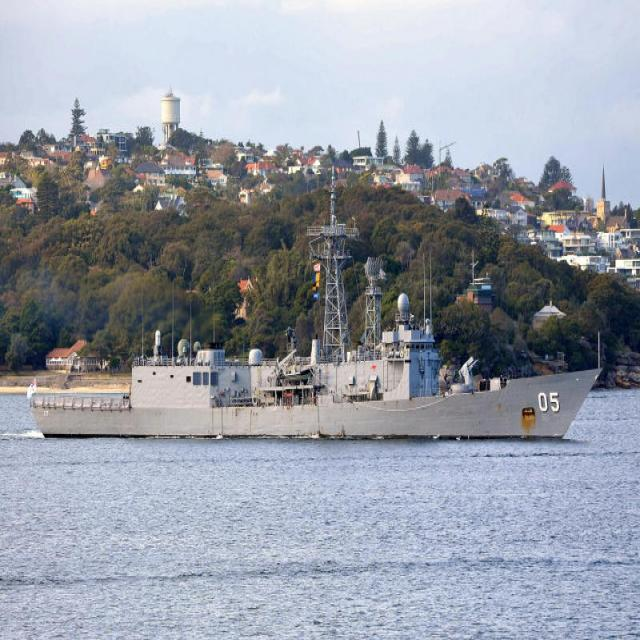Fragata: (23, 183, 610, 452)
